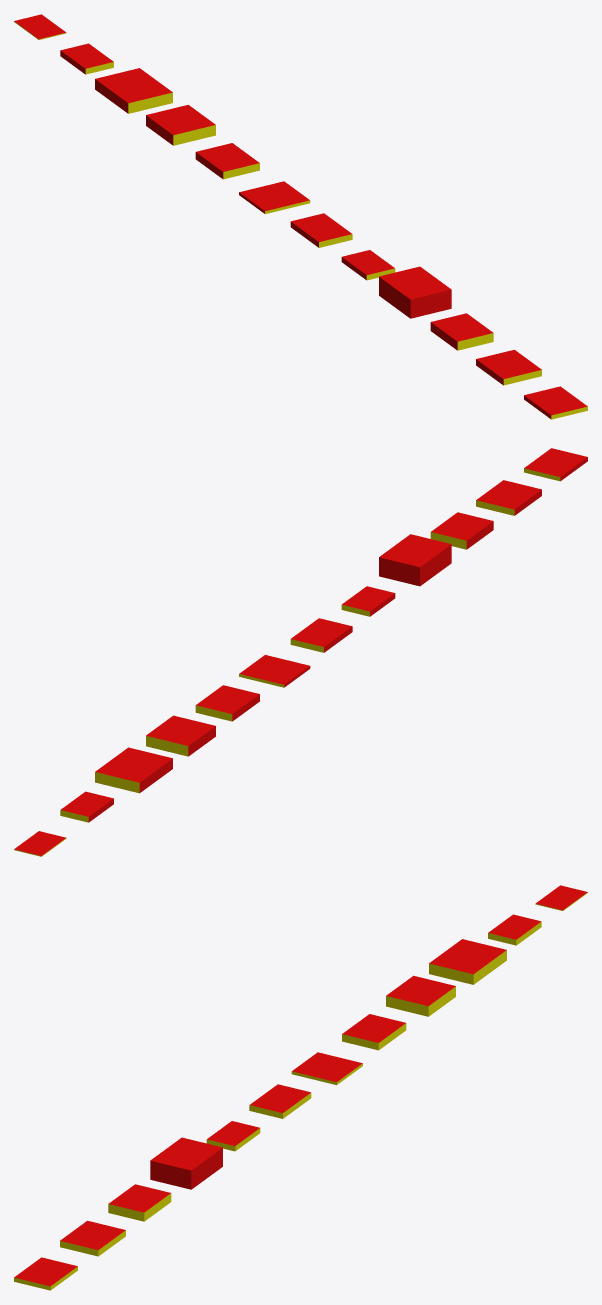
File: thorkea_books_grp.fbx
The picture shows the model from 3 angles, top to bottom: view 1: azimuth 30°, elevation 25°; view 2: azimuth 150°, elevation 25°; view 3: azimuth 330°, elevation 25°; orthographic projection.
Parts seen in each view (by area): view 1: thorkea_book_4, thorkea_book_10, thorkea_book_9, thorkea_book_3, thorkea_book_8, thorkea_book_2, thorkea_book_7, thorkea_book_6, thorkea_book_1, thorkea_book_11, thorkea_book_5, thorkea_book_12; view 2: thorkea_book_4, thorkea_book_10, thorkea_book_9, thorkea_book_3, thorkea_book_8, thorkea_book_2, thorkea_book_7, thorkea_book_6, thorkea_book_1, thorkea_book_11, thorkea_book_5, thorkea_book_12; view 3: thorkea_book_4, thorkea_book_10, thorkea_book_9, thorkea_book_3, thorkea_book_8, thorkea_book_2, thorkea_book_7, thorkea_book_6, thorkea_book_1, thorkea_book_11, thorkea_book_5, thorkea_book_12.
Boxes of the visible parts, x1,y1,x2,y2 form: thorkea_book_4: (379,266,451,318); thorkea_book_10: (95,68,172,113); thorkea_book_9: (146,104,215,145); thorkea_book_3: (430,313,493,350); thorkea_book_8: (195,143,259,179); thorkea_book_2: (476,349,541,385); thorkea_book_7: (239,181,310,214); thorkea_book_6: (290,213,352,247); thorkea_book_1: (524,386,587,419); thorkea_book_11: (60,43,113,74); thorkea_book_5: (341,250,395,280); thorkea_book_12: (14,14,66,39); thorkea_book_4: (379,534,451,586); thorkea_book_10: (95,747,172,793); thorkea_book_9: (146,715,215,756); thorkea_book_3: (430,512,493,549); thorkea_book_8: (195,685,259,721); thorkea_book_2: (476,480,541,515); thorkea_book_7: (239,655,310,687); thorkea_book_6: (290,618,352,652); thorkea_book_1: (524,448,587,481); thorkea_book_11: (60,791,113,822); thorkea_book_5: (341,586,395,616); thorkea_book_12: (14,831,66,856); thorkea_book_4: (150,1137,222,1189); thorkea_book_10: (429,939,506,984); thorkea_book_9: (386,975,455,1016); thorkea_book_3: (108,1184,171,1221); thorkea_book_8: (342,1014,406,1050); thorkea_book_2: (60,1220,125,1256); thorkea_book_7: (291,1052,362,1085); thorkea_book_6: (249,1084,311,1118); thorkea_book_1: (14,1257,77,1290); thorkea_book_11: (488,914,541,945); thorkea_book_5: (206,1121,260,1151); thorkea_book_12: (535,885,587,910).
Bounding box in the file's own units: 22.2 × 9 × 462.
